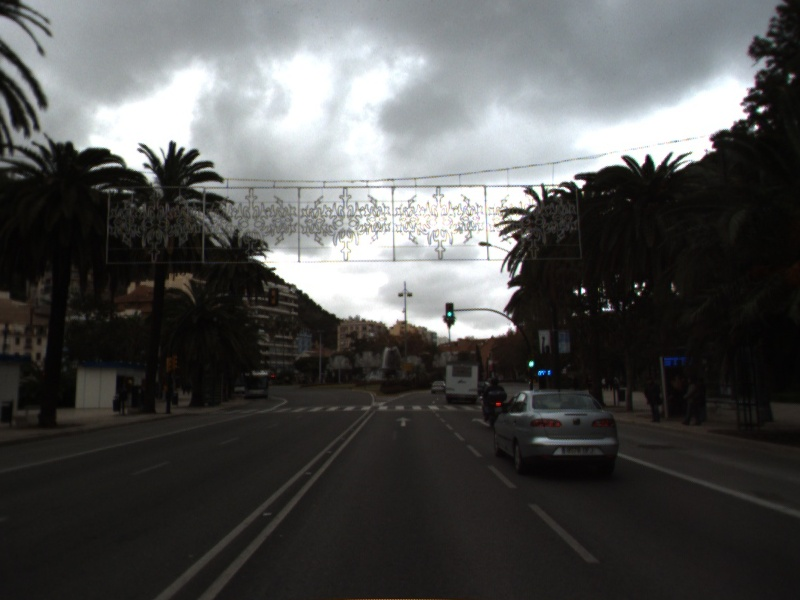STRAIGHT: (469, 415, 493, 428), (393, 414, 414, 428)
